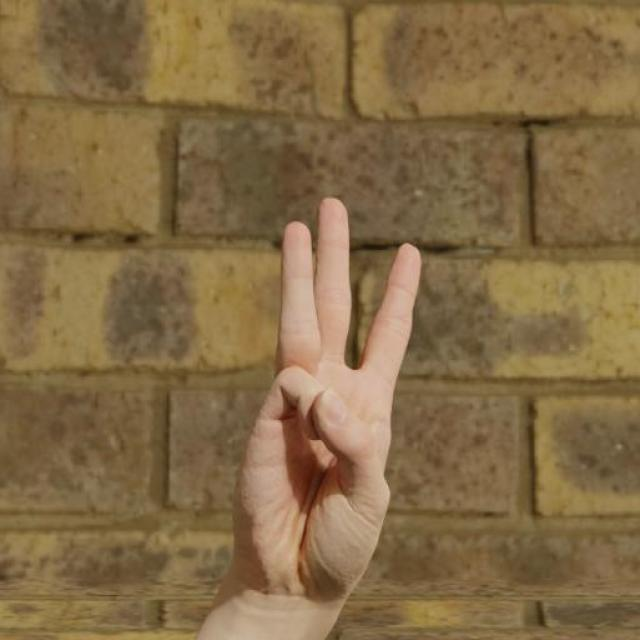W: (192, 192, 428, 632)
